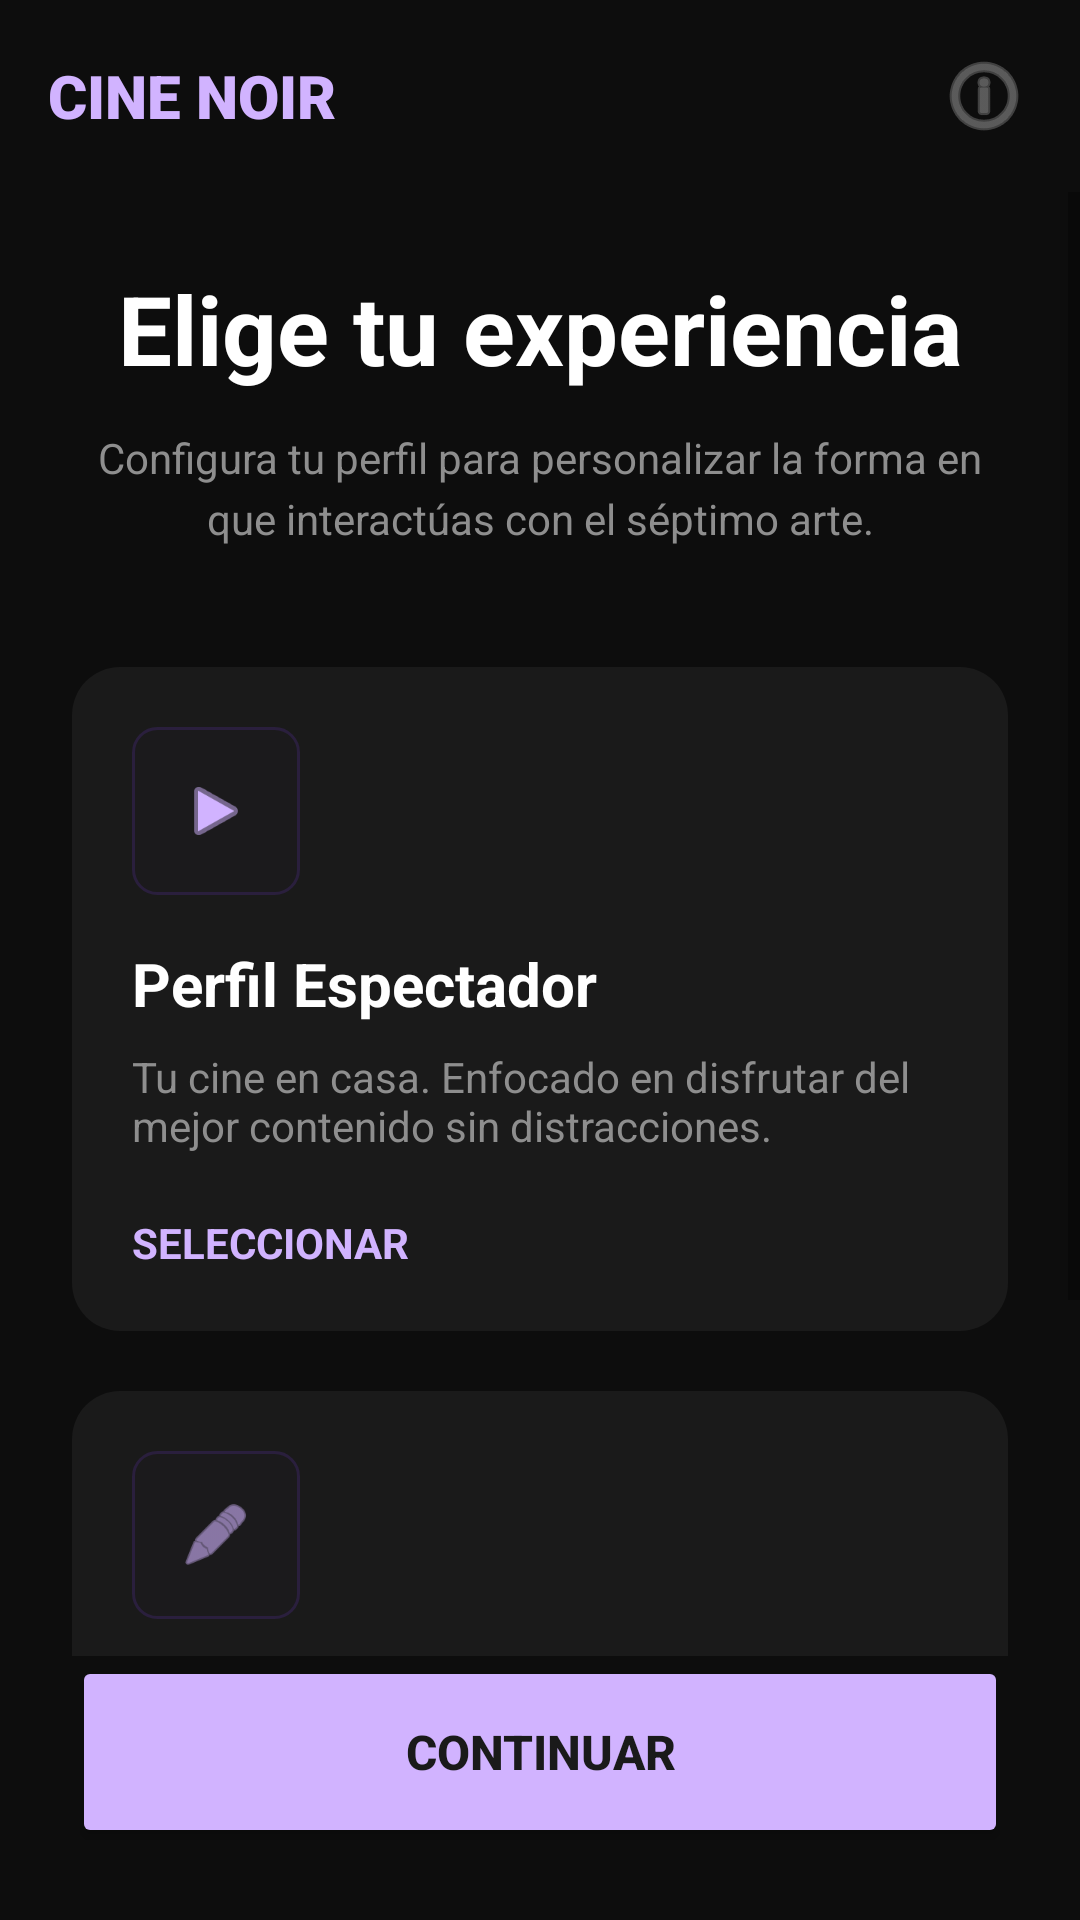

Icon click points for this 1080x1920 phone screenshot, format (x=x, y=y):
edit: (x=215, y=1534)
info details: (x=984, y=96)
play: (x=216, y=811)
